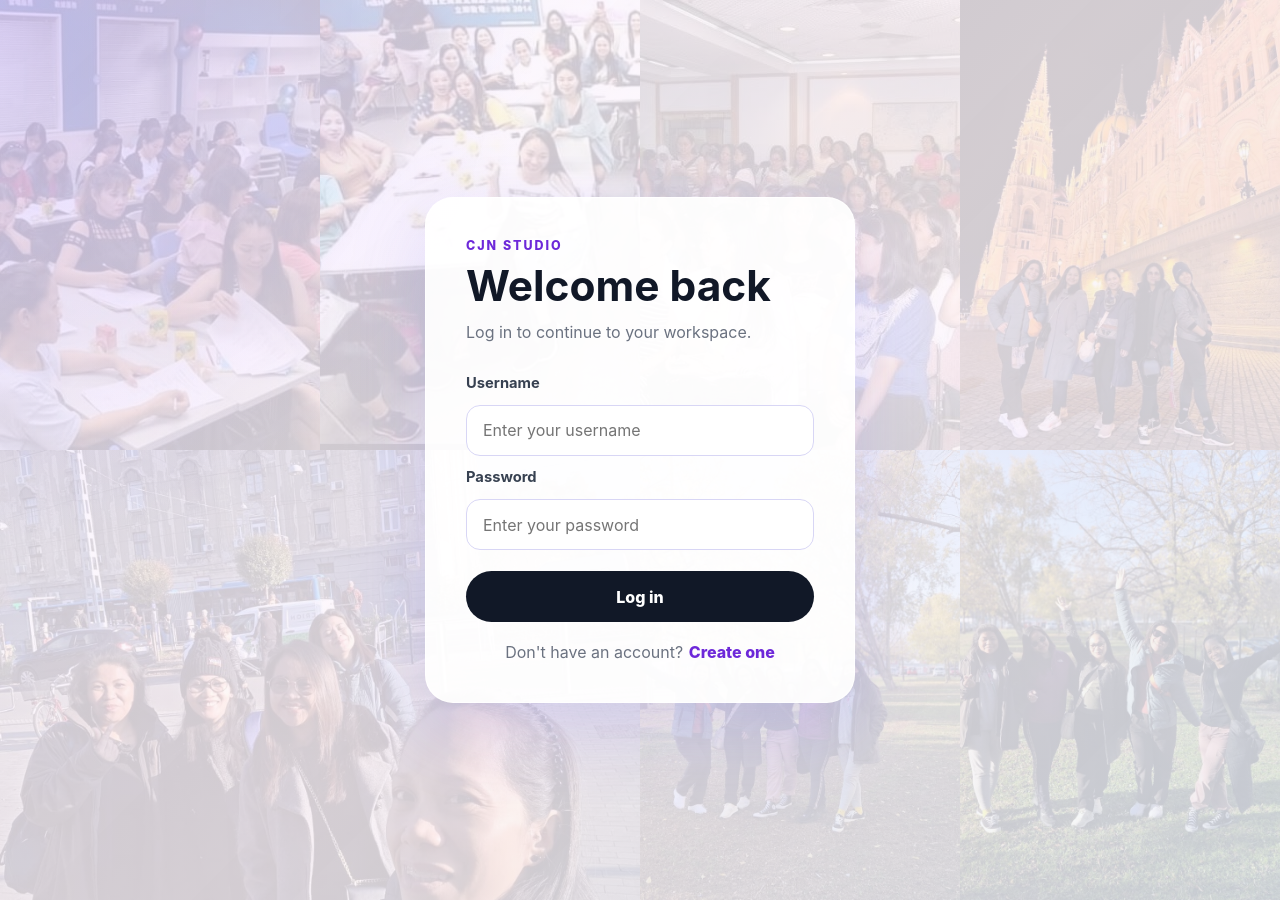
it: shows validation when login fields are empty
Click the button "Log in".
click(640, 597)  # box [466,572,814,622]
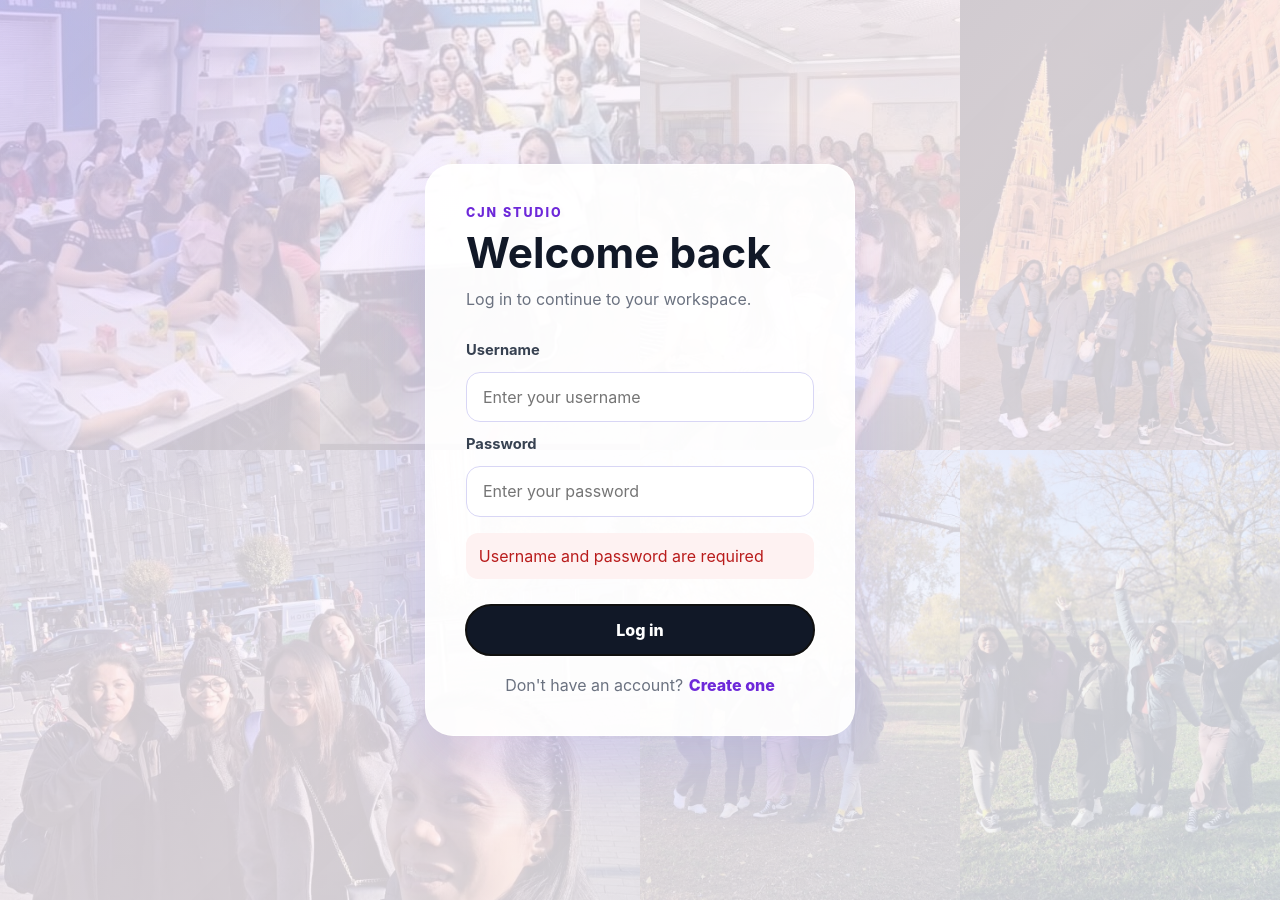
Result: the text "Username and password are required" is shown at [466,534,814,579]
